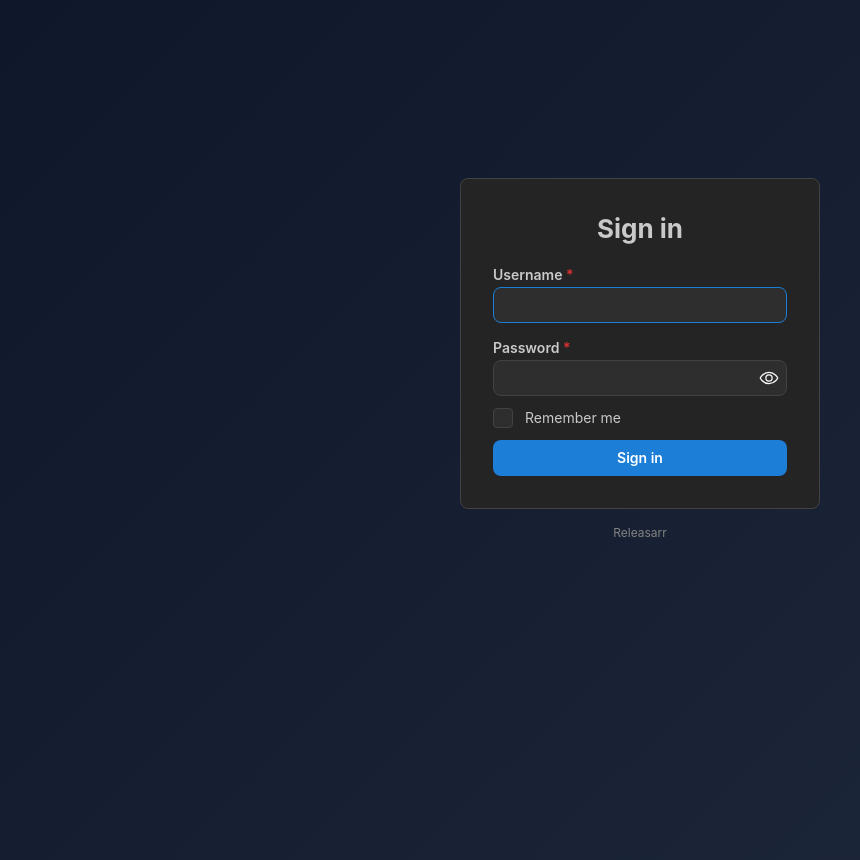
LoginPage › shows a locked-out message after too many failed attempts
In the field labelled "Username *": [640, 305] box [493, 287, 787, 323], type "alice"
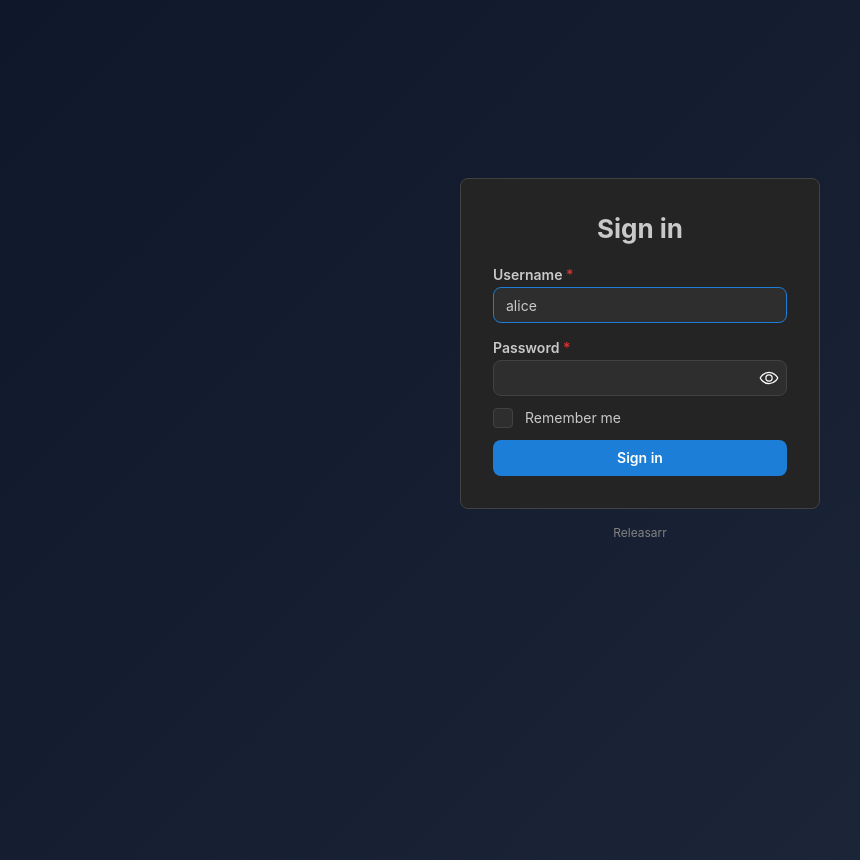
In the password field labelled "Password *": [640, 378] box [494, 361, 786, 395], type "wrong"
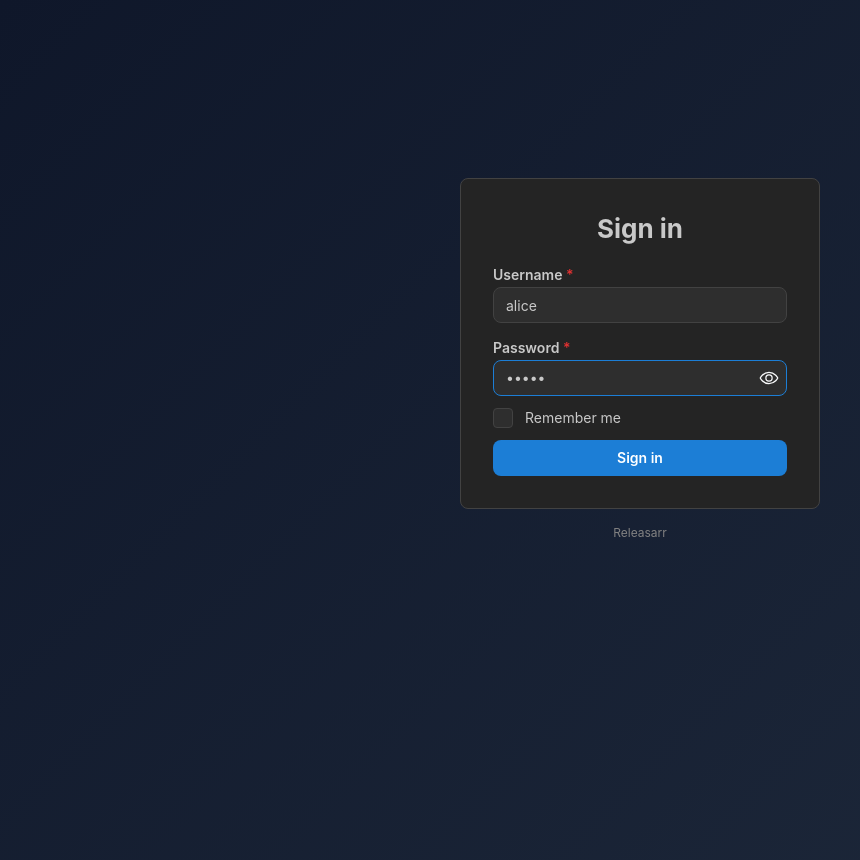
Click the button "Sign in": [640, 458] box [493, 440, 787, 476]
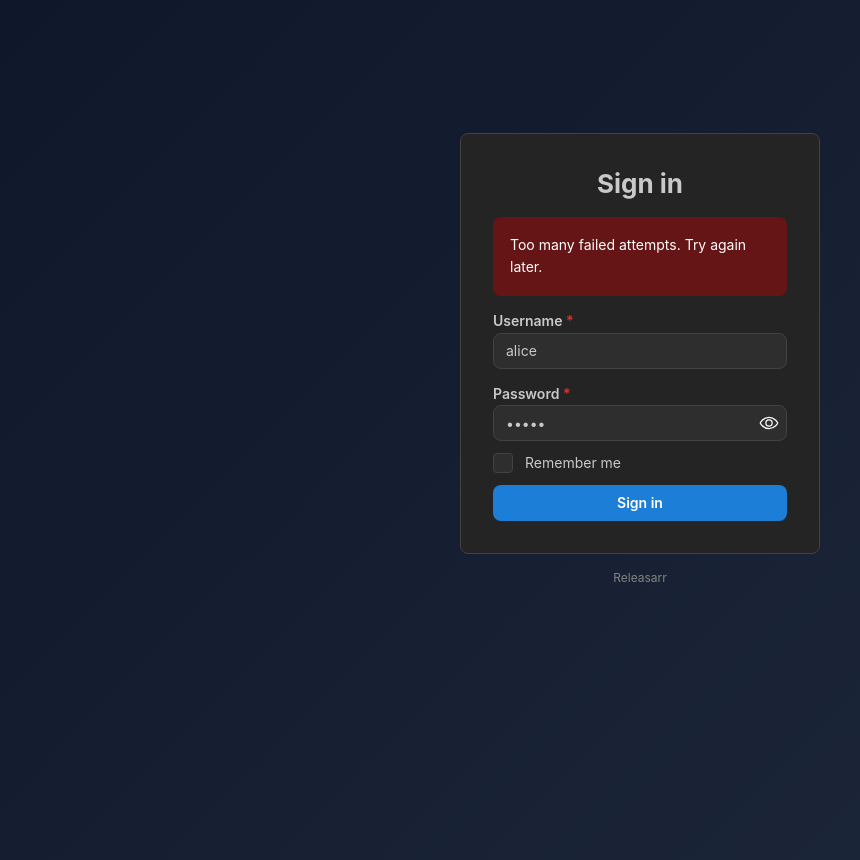
expect the text "Too many failed attempts. Try again later." is shown: met, box [510, 234, 770, 279]
